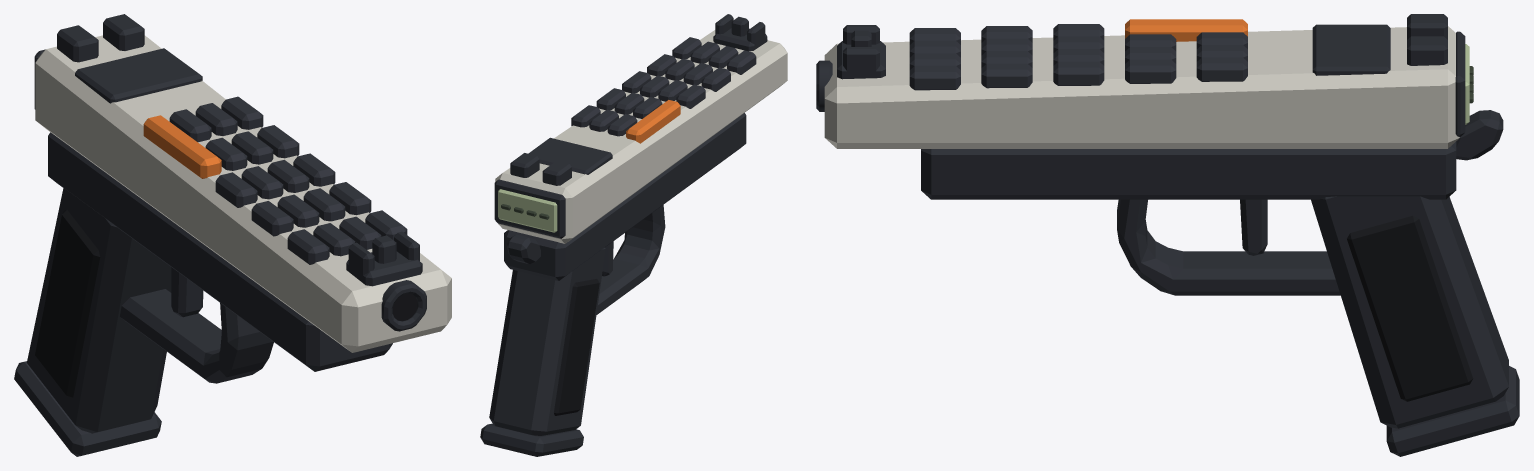
File: w_pistol@pistol_calc.glb
3 renders of one model, left to right at view 1: azimuth 30°, elevation 25°; view 2: azimuth 150°, elevation 25°; view 3: azimuth 270°, elevation 25°, orthographic. The views are drawn at different scales.
Parts seen in each view (by area): view 1: slide_wzA__case__pcfcdc4, body_wzB__dark__p2b2e35, grip_wzB__dark__p2b2e35, slide_wzN__key__p30333b, slide_wzN__dark__p2b2e35, grip_wzN__black__p16171b, mag_wzB__dark__p2b2e35, slide_wzN__orange__pe0772e, slide_wzN__black__p16171b; view 2: slide_wzA__case__pcfcdc4, grip_wzB__dark__p2b2e35, body_wzB__dark__p2b2e35, slide_wzN__key__p30333b, slide_wzN__dark__p2b2e35, grip_wzN__black__p16171b, mag_wzB__dark__p2b2e35, slide_wzN__lcd__pb6c79e, slide_wzN__orange__pe0772e, hammer_wzN__dark__p2b2e35; view 3: slide_wzA__case__pcfcdc4, body_wzB__dark__p2b2e35, grip_wzB__dark__p2b2e35, slide_wzN__key__p30333b, grip_wzN__black__p16171b, slide_wzN__dark__p2b2e35, mag_wzB__dark__p2b2e35, slide_wzN__orange__pe0772e, hammer_wzN__dark__p2b2e35.
Boxes of the visible parts, x1=… form: slide_wzA__case__pcfcdc4: x1=35, y1=35, x2=451, y2=352; body_wzB__dark__p2b2e35: x1=48, y1=132, x2=392, y2=383; grip_wzB__dark__p2b2e35: x1=27, y1=188, x2=171, y2=433; slide_wzN__key__p30333b: x1=169, y1=96, x2=407, y2=264; slide_wzN__dark__p2b2e35: x1=34, y1=14, x2=426, y2=331; grip_wzN__black__p16171b: x1=35, y1=210, x2=100, y2=398; mag_wzB__dark__p2b2e35: x1=14, y1=361, x2=161, y2=456; slide_wzN__orange__pe0772e: x1=143, y1=115, x2=221, y2=178; slide_wzN__black__p16171b: x1=392, y1=293, x2=417, y2=321; slide_wzA__case__pcfcdc4: x1=495, y1=30, x2=787, y2=243; grip_wzB__dark__p2b2e35: x1=489, y1=247, x2=605, y2=435; body_wzB__dark__p2b2e35: x1=504, y1=113, x2=746, y2=314; slide_wzN__key__p30333b: x1=571, y1=37, x2=756, y2=136; slide_wzN__dark__p2b2e35: x1=494, y1=14, x2=767, y2=238; grip_wzN__black__p16171b: x1=554, y1=279, x2=599, y2=415; mag_wzB__dark__p2b2e35: x1=480, y1=423, x2=583, y2=456; slide_wzN__lcd__pb6c79e: x1=498, y1=189, x2=557, y2=232; slide_wzN__orange__pe0772e: x1=626, y1=100, x2=680, y2=143; hammer_wzN__dark__p2b2e35: x1=506, y1=234, x2=540, y2=264; slide_wzA__case__pcfcdc4: x1=824, y1=26, x2=1459, y2=148; body_wzB__dark__p2b2e35: x1=921, y1=141, x2=1456, y2=295; grip_wzB__dark__p2b2e35: x1=1311, y1=196, x2=1508, y2=428; slide_wzN__key__p30333b: x1=909, y1=24, x2=1247, y2=90; grip_wzN__black__p16171b: x1=1347, y1=215, x2=1473, y2=401; slide_wzN__dark__p2b2e35: x1=816, y1=14, x2=1465, y2=137; mag_wzB__dark__p2b2e35: x1=1386, y1=366, x2=1519, y2=456; slide_wzN__orange__pe0772e: x1=1125, y1=19, x2=1247, y2=41; hammer_wzN__dark__p2b2e35: x1=1456, y1=110, x2=1503, y2=160.
Bounding box in the file's own units: 0.062 × 0.2202 × 0.3429.
